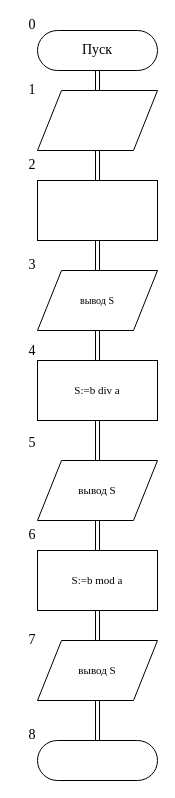
This 175x798 diagram has some shape labels left out. The box of each missing label's shape, as (x1, y1, x2, y2) in pixels:
a:=5 b:=7: (36, 90, 158, 150)
S:=b/a: (36, 180, 158, 240)
остав: (36, 740, 158, 780)
